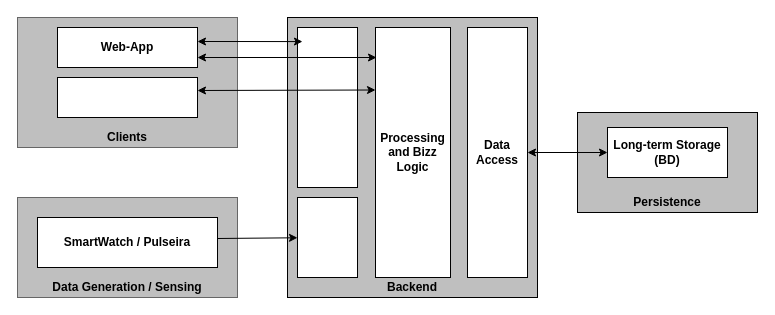
This 775x315 diagram has some shape labels left out. The centre of each missing label's shape, as x and y in pixels:
Message Queues: [327,237]
Mobile-App: [127,97]
Service Layer (API): [327,107]
